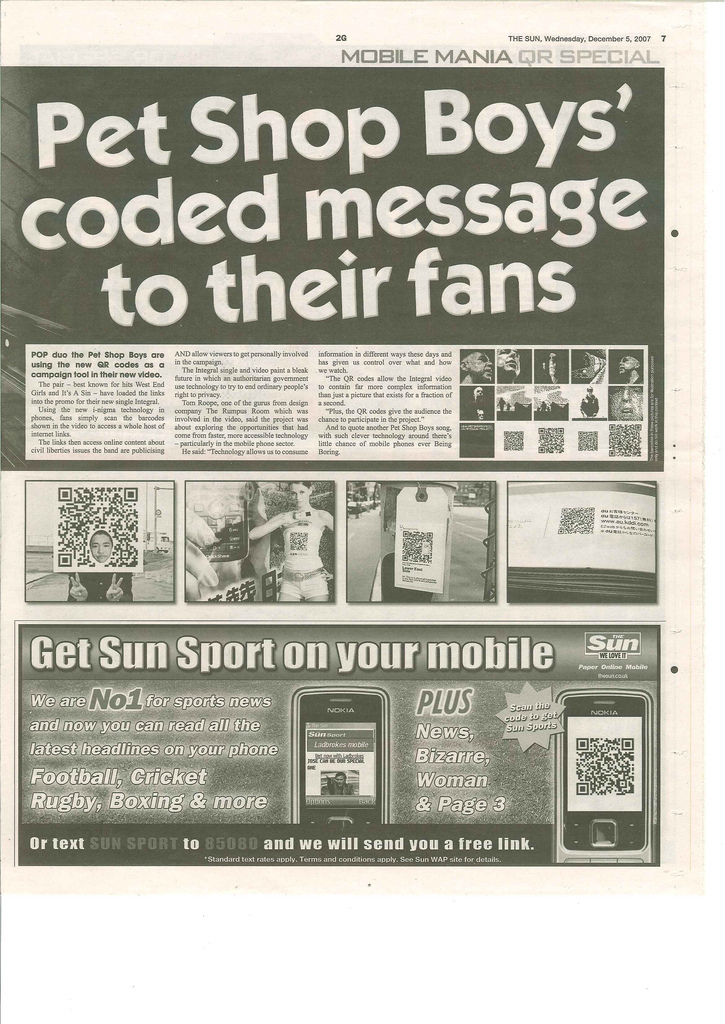QR-CODE: (58, 487, 137, 566), (576, 738, 633, 794), (609, 424, 641, 456), (402, 531, 432, 564), (558, 507, 594, 533), (538, 428, 563, 452), (578, 431, 597, 450), (504, 431, 523, 450), (290, 532, 307, 550)
